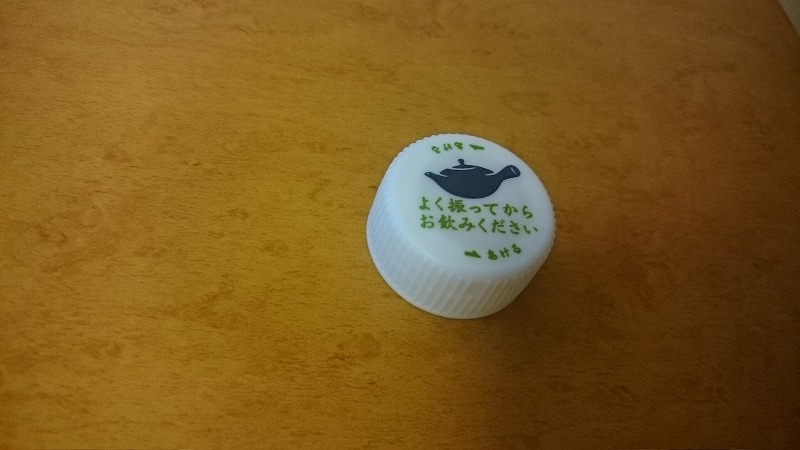A: (355, 114, 577, 327)
